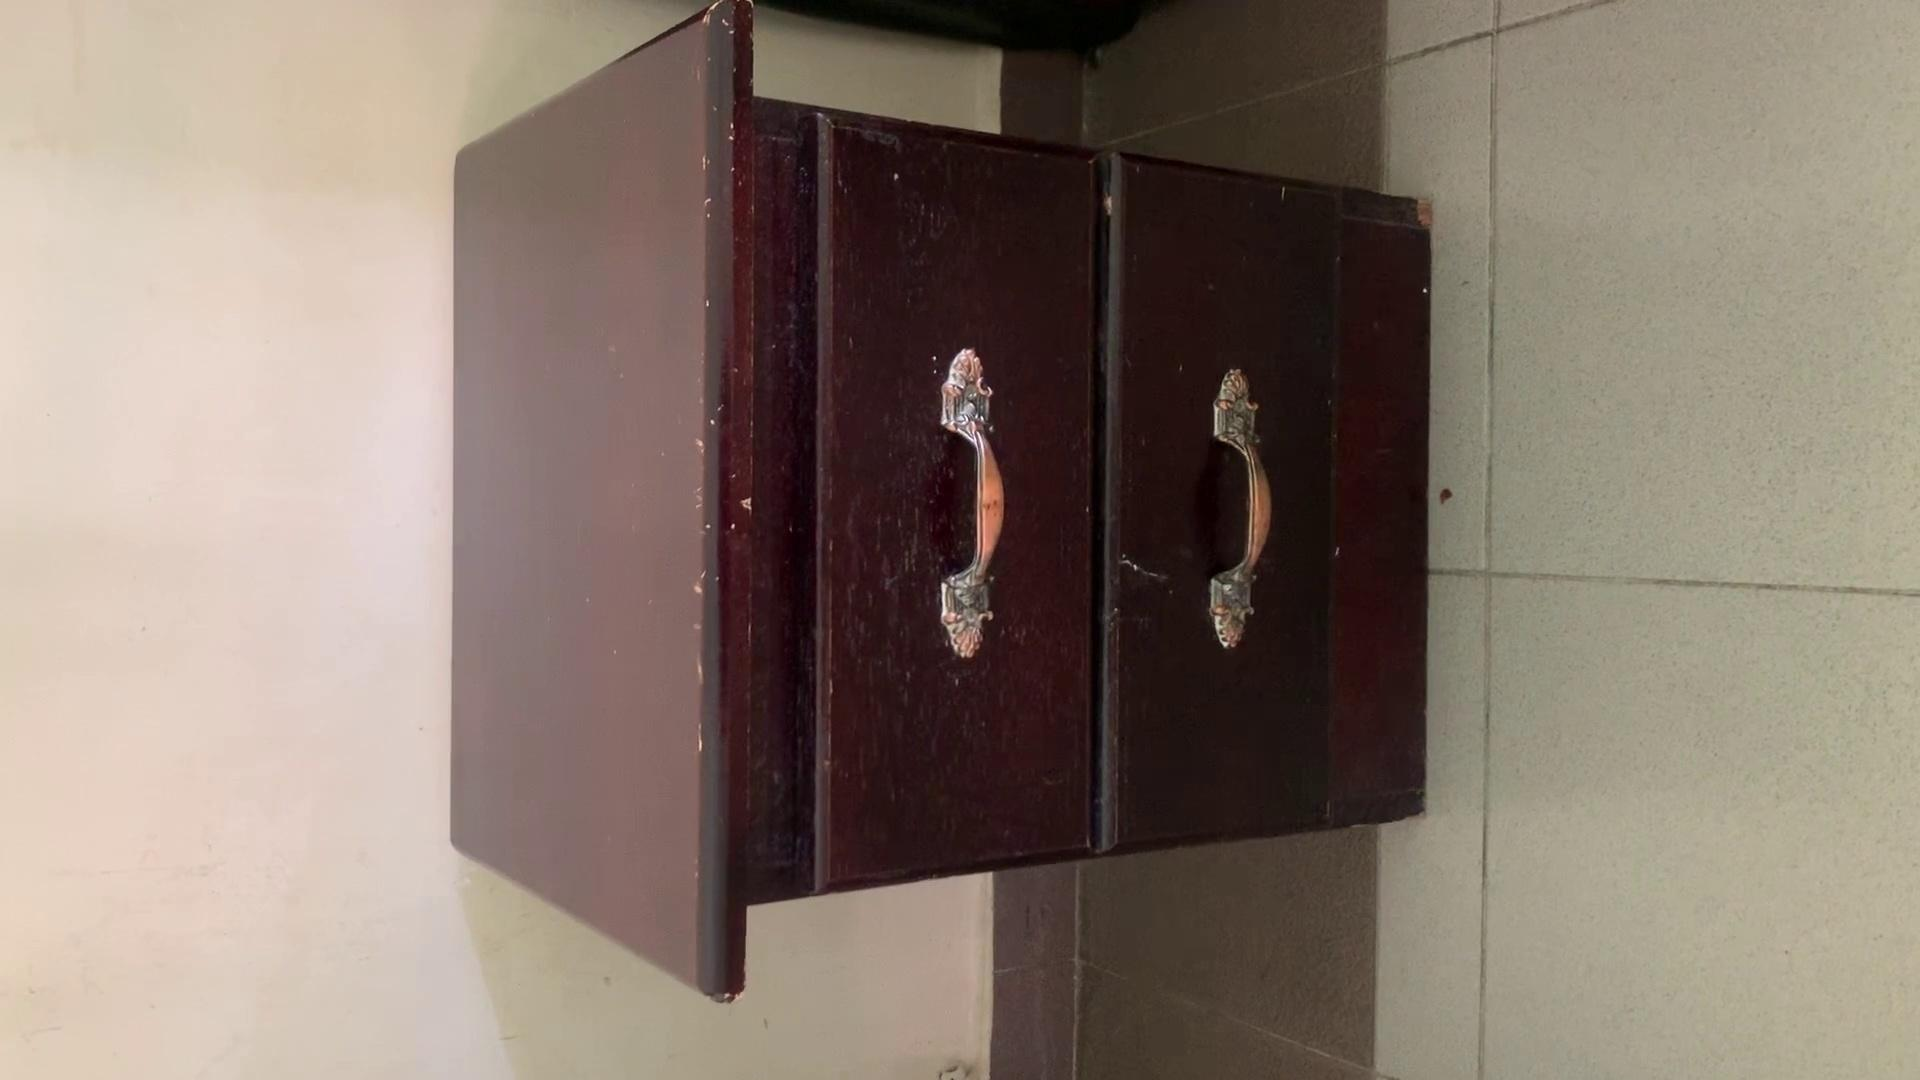cabinet_door: (819, 137, 1089, 862), (1101, 169, 1321, 836)
handle: (931, 351, 1019, 666), (1199, 365, 1282, 665)
